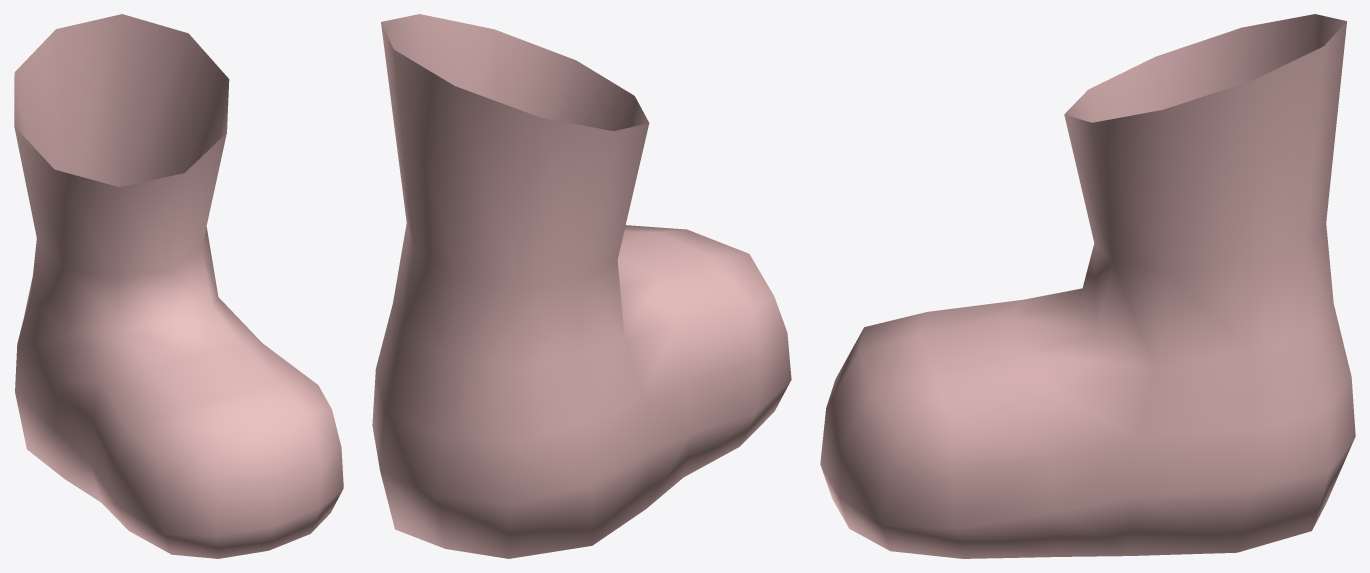
File: Nendoroid_A_Foot01.fbx
3 views of the same model, side by side, from view 1: azimuth 30°, elevation 25°; view 2: azimuth 150°, elevation 25°; view 3: azimuth 270°, elevation 25° (orthographic). The views are drawn at different scales.
Parts seen in each view (by area): view 1: Nendoroid_A_Foot01; view 2: Nendoroid_A_Foot01; view 3: Nendoroid_A_Foot01.
Boxes of the visible parts, x1,y1,x2,y2 form: Nendoroid_A_Foot01: (14, 14, 343, 558); Nendoroid_A_Foot01: (372, 14, 791, 558); Nendoroid_A_Foot01: (820, 14, 1355, 558).
Bounding box in the file's own units: 0.2761 × 0.4876 × 0.4905.
